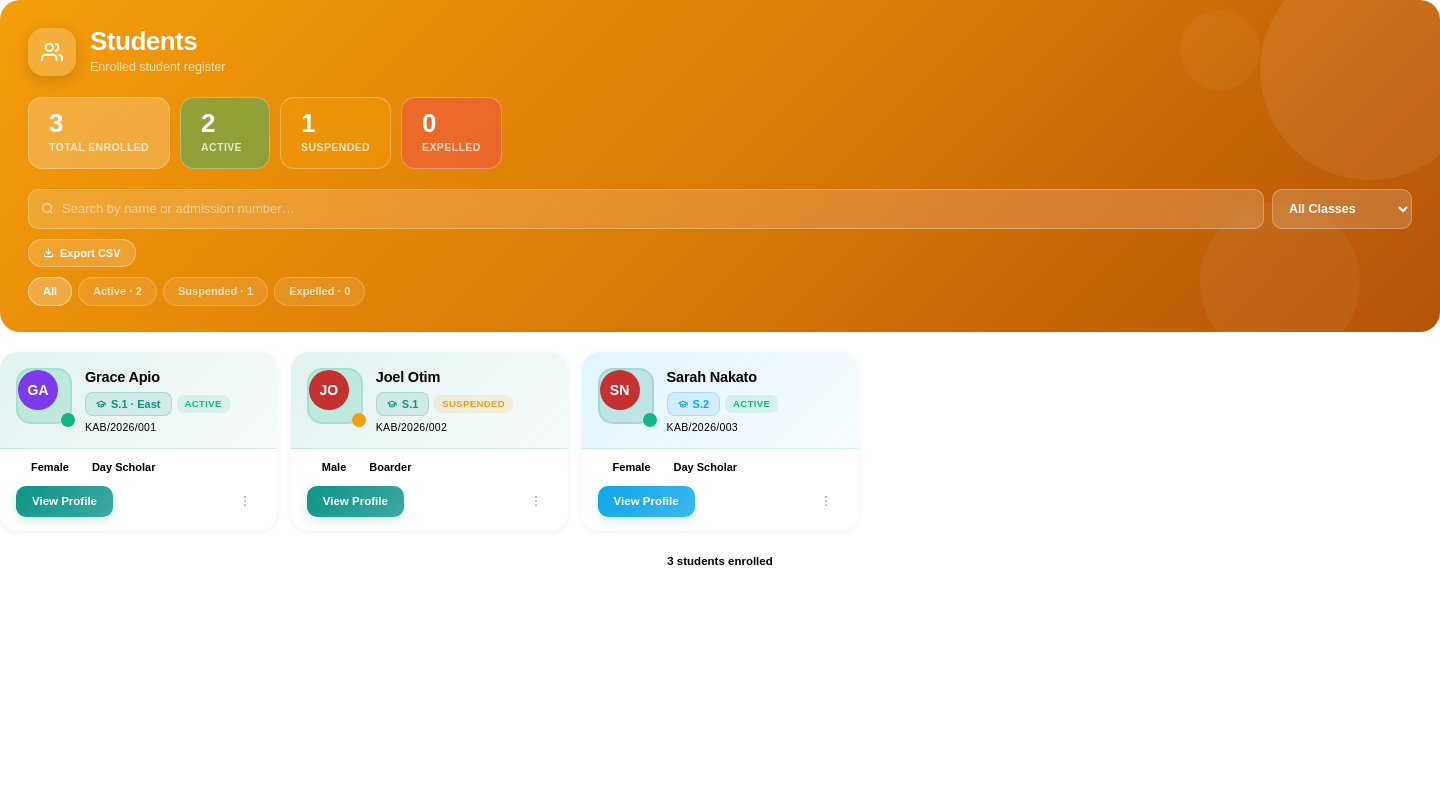
Test case: PrincipalStudentsPage › filters students by search query
The width and height of the screenshot is (1440, 810).
In the field with placeholder "Search by name or admission number…": (656, 209) 62,199 -> 1251,218, type "Grace"
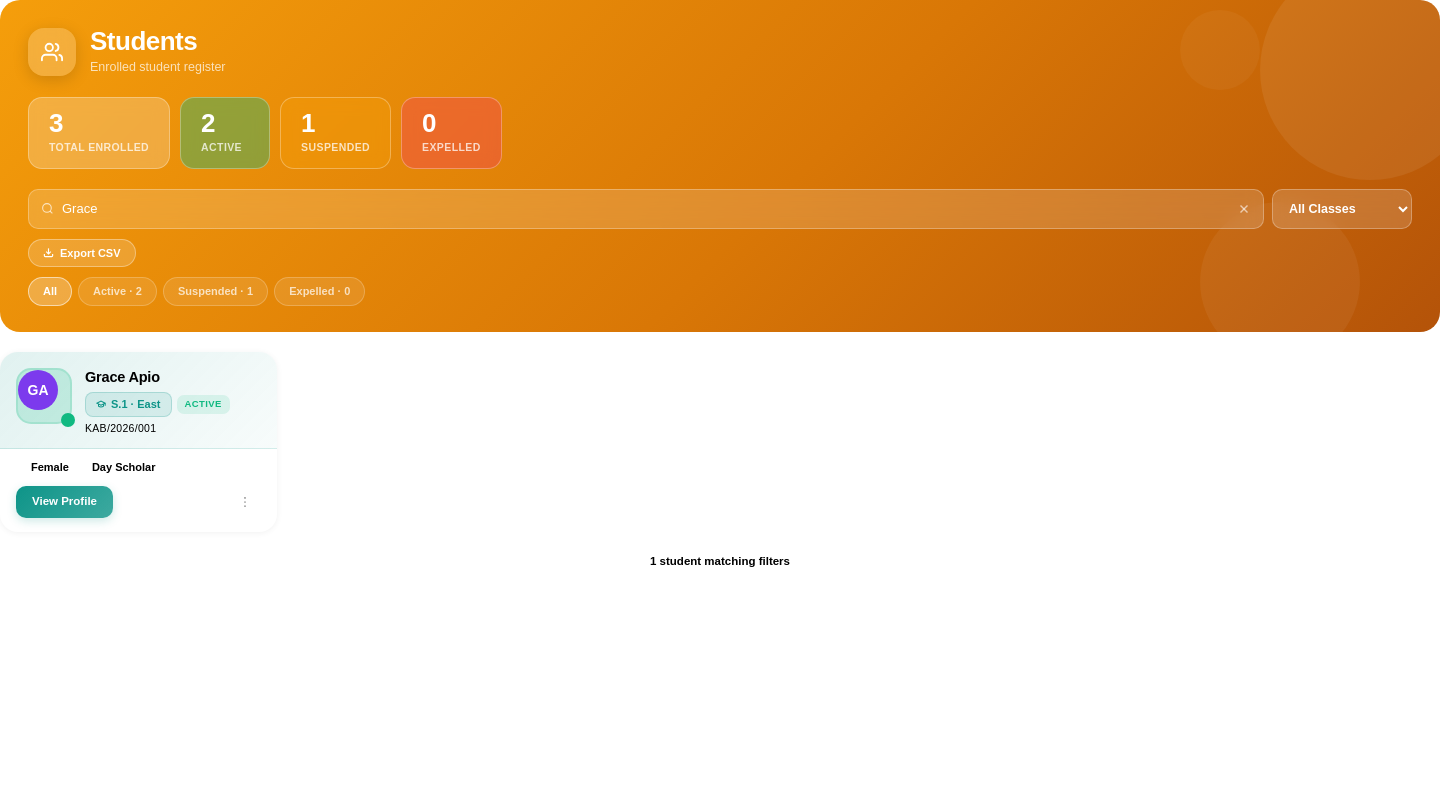
Expected: the text "Grace Apio" is shown, 85,368 -> 160,384
Result: the text "Joel Otim" is gone
